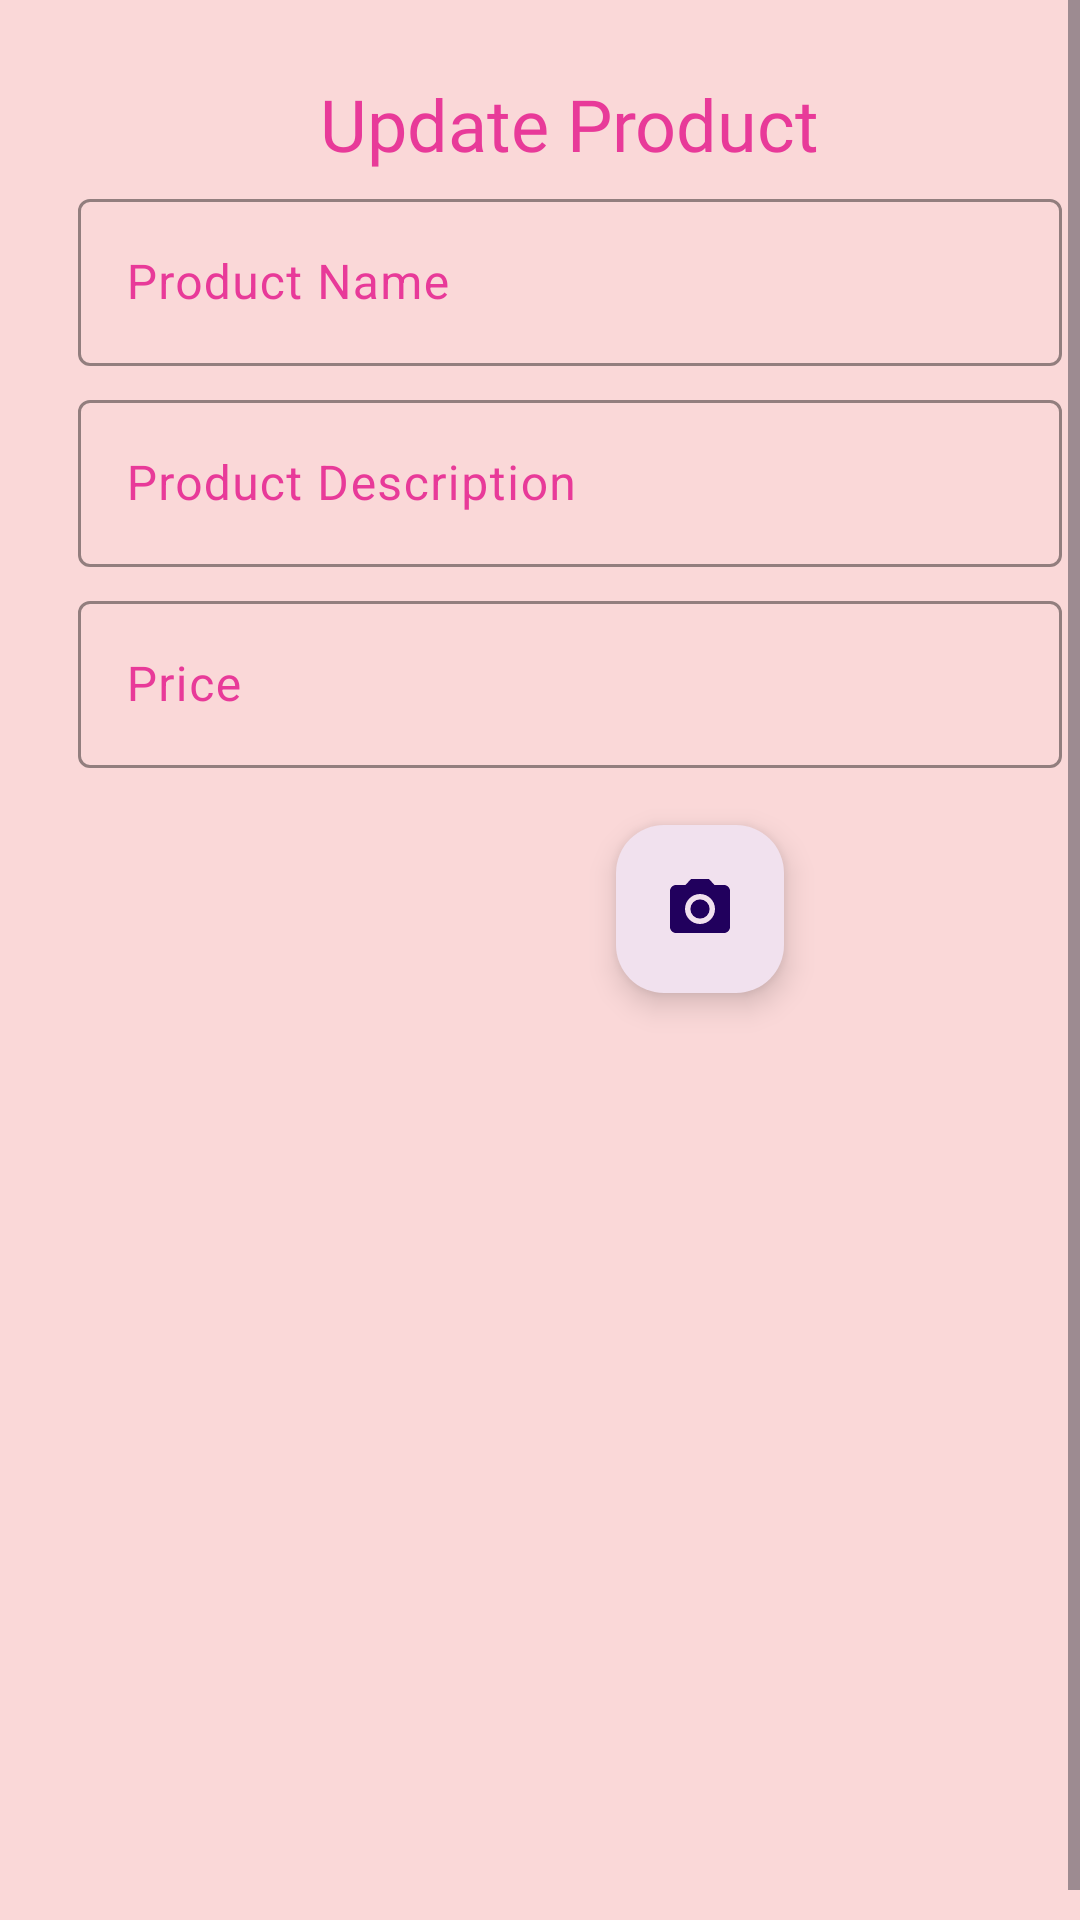

Icons on this 1080px x 1920px Android screen, each with the point to tap as (x=x, y=y):
Upload Photo: (x=700, y=909)
